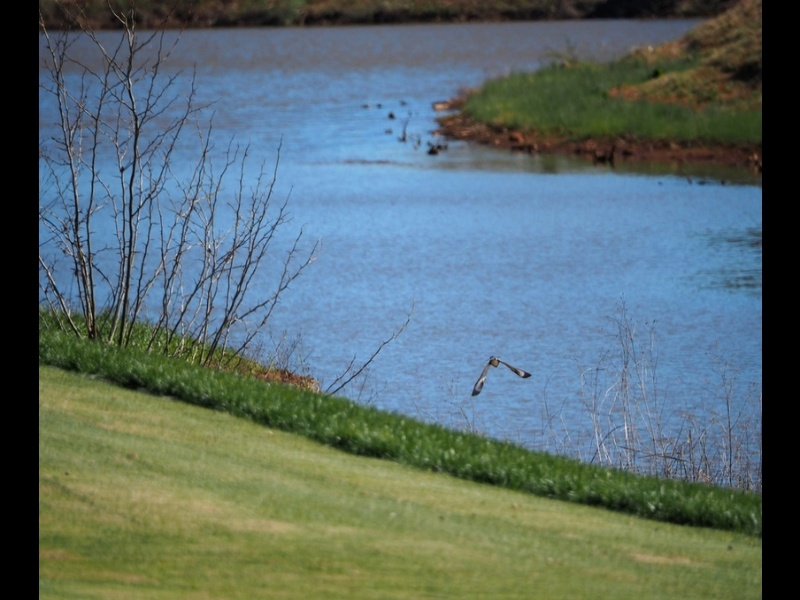kingfisher: (469, 352, 533, 399)
